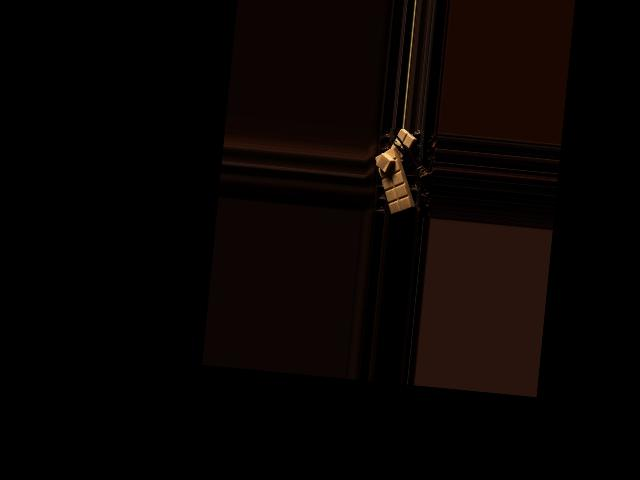chocolate: (370, 143, 419, 215)
